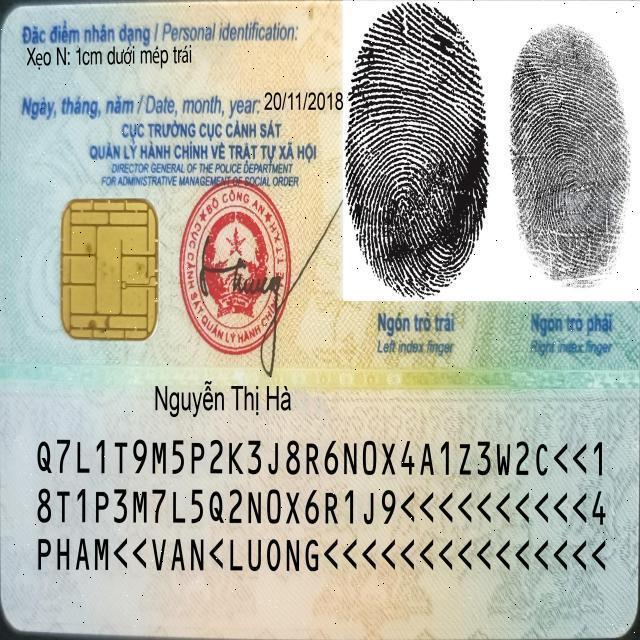features: (23, 36, 213, 80)
finger_print: (341, 2, 497, 362), (504, 1, 640, 358)
issue_date: (261, 89, 344, 113)
